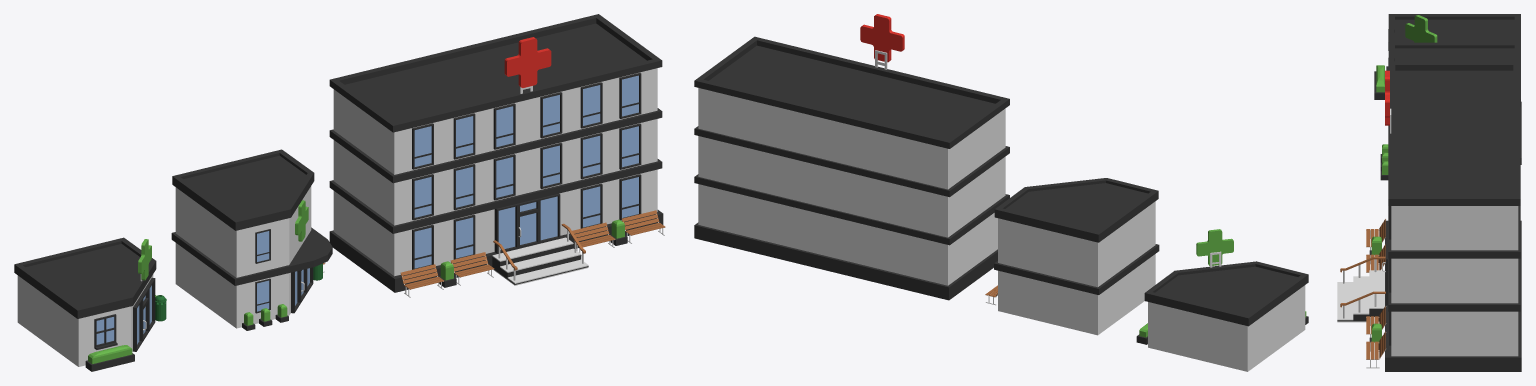
Rendered from hospital.fbx.
3 renders of one model, left to right at view 1: azimuth 30°, elevation 25°; view 2: azimuth 150°, elevation 25°; view 3: azimuth 270°, elevation 25°, orthographic. The views are drawn at different scales.
Visible parts, largest first — view 1: hospital_t3, hospital_t2, hospital_t1; view 2: hospital_t3, hospital_t2, hospital_t1; view 3: hospital_t3, hospital_t1, hospital_t2.
Boxes of the visible parts, x1=… form: hospital_t3: x1=329, y1=14, x2=665, y2=297; hospital_t2: x1=171, y1=149, x2=332, y2=330; hospital_t1: x1=14, y1=237, x2=166, y2=371; hospital_t3: x1=694, y1=14, x2=1009, y2=300; hospital_t2: x1=985, y1=178, x2=1159, y2=335; hospital_t1: x1=1136, y1=229, x2=1308, y2=371; hospital_t3: x1=1337, y1=62, x2=1521, y2=371; hospital_t1: x1=1374, y1=14, x2=1520, y2=99; hospital_t2: x1=1380, y1=42, x2=1521, y2=180.
Bounding box in the file's own units: 2219 × 798 × 580.
